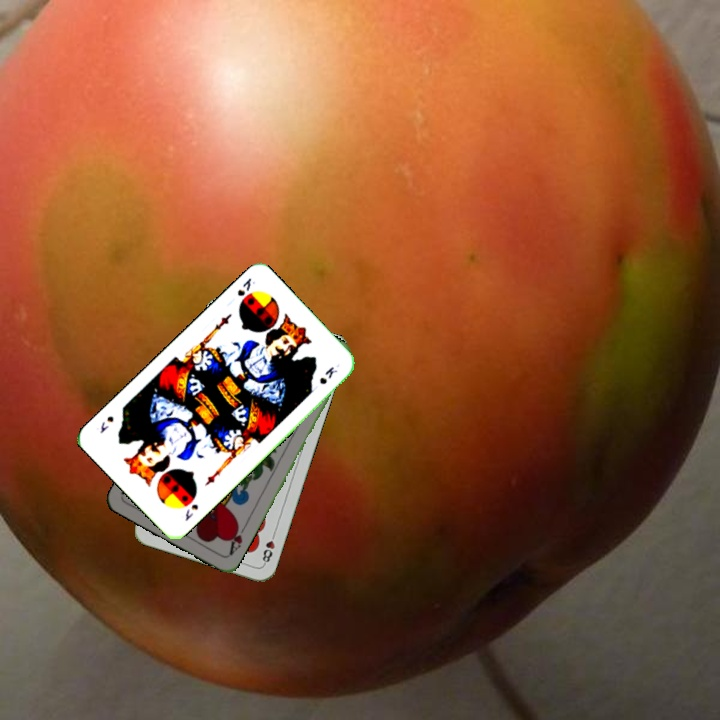H8: (258, 528, 278, 567)
HA: (224, 519, 249, 558)
SK: (233, 273, 258, 299), (181, 500, 201, 524)
